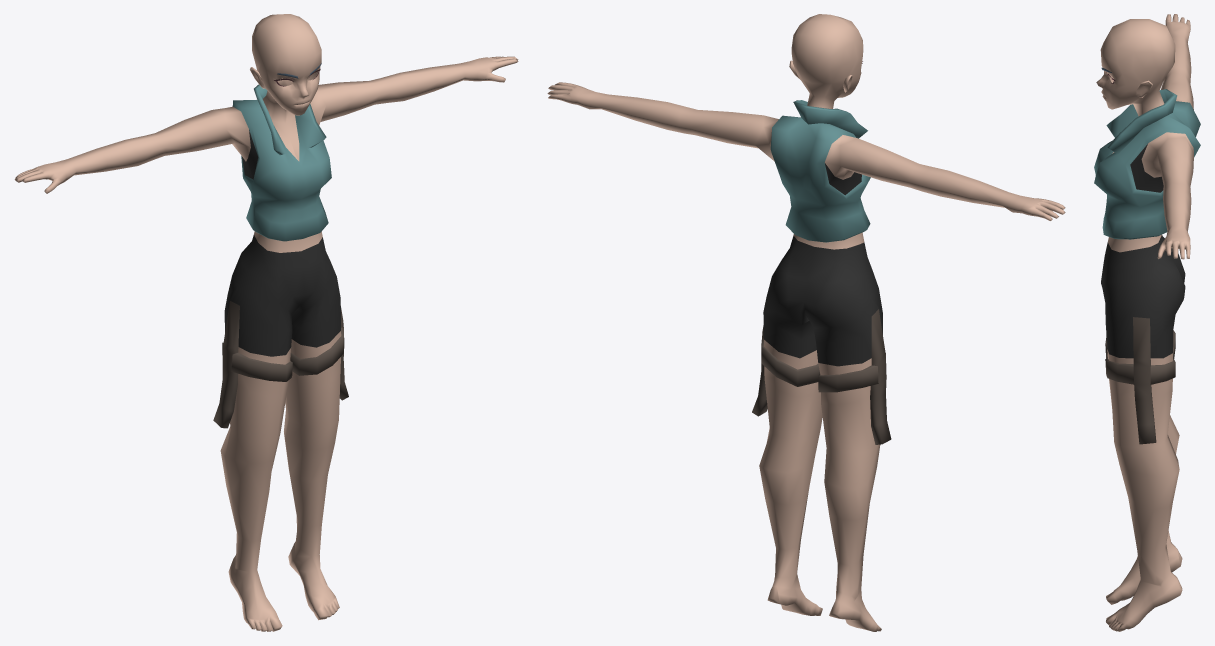
Rendered from fem bod.fbx.
3 renders of one model, left to right at view 1: azimuth 30°, elevation 25°; view 2: azimuth 150°, elevation 25°; view 3: azimuth 270°, elevation 25°, orthographic. The views are drawn at different scales.
Parts seen in each view (by area): view 1: bod main clothes.002; view 2: bod main clothes.002; view 3: bod main clothes.002.
Boxes of the visible parts, bbox=[...] form: bod main clothes.002: bbox=[14, 14, 518, 631]; bod main clothes.002: bbox=[547, 14, 1065, 631]; bod main clothes.002: bbox=[1094, 14, 1200, 631].
Size of the model in its own units: 1491 by 1695 by 277.
